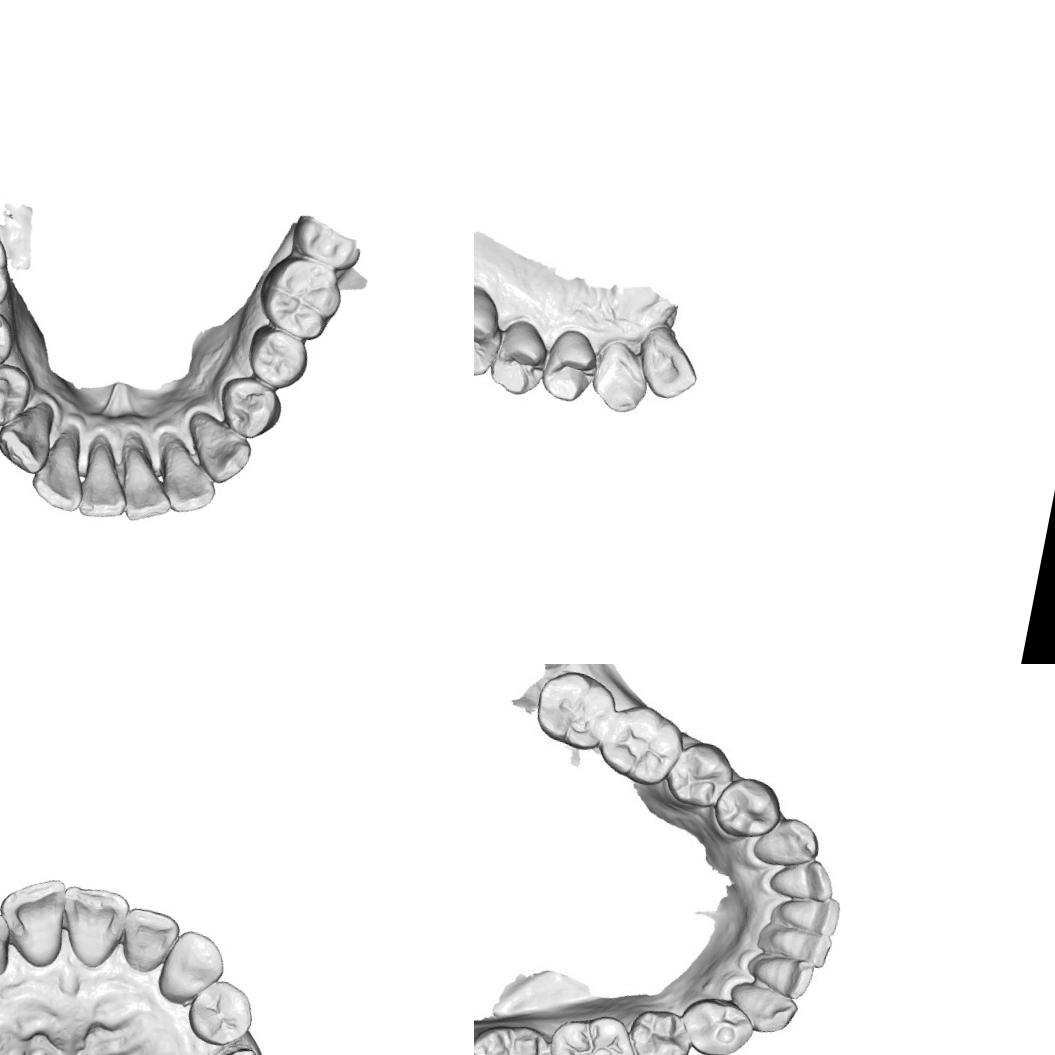canine: (152, 924, 230, 1012), (176, 408, 256, 488), (586, 332, 654, 421), (749, 809, 826, 875), (0, 392, 58, 478), (720, 977, 802, 1036)
crown: (206, 1036, 261, 1055)
incisor: (0, 866, 74, 970), (53, 880, 133, 974), (634, 320, 706, 405), (114, 443, 179, 527), (28, 434, 92, 514), (114, 902, 181, 978), (154, 441, 220, 518), (76, 448, 133, 524), (767, 851, 841, 908), (750, 950, 818, 1004), (771, 890, 846, 938), (762, 922, 836, 970), (0, 904, 17, 979)
molar: (591, 698, 690, 792), (252, 249, 348, 344), (527, 666, 620, 756), (540, 1005, 642, 1055), (474, 272, 508, 379), (474, 1015, 560, 1055)
premolar: (660, 736, 740, 815), (184, 974, 259, 1050), (707, 772, 785, 844), (211, 370, 286, 443), (238, 322, 313, 392), (492, 318, 554, 401), (678, 993, 754, 1055), (540, 324, 598, 402), (621, 1002, 697, 1055), (0, 358, 34, 431)
